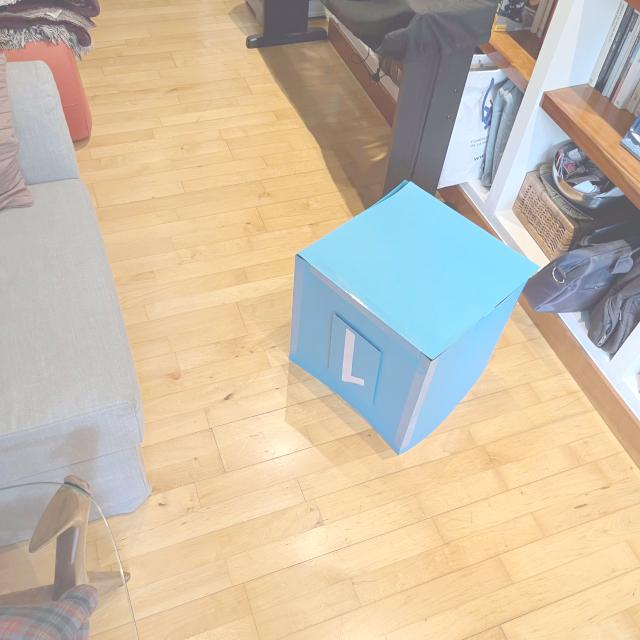box: (283, 176, 542, 457)
